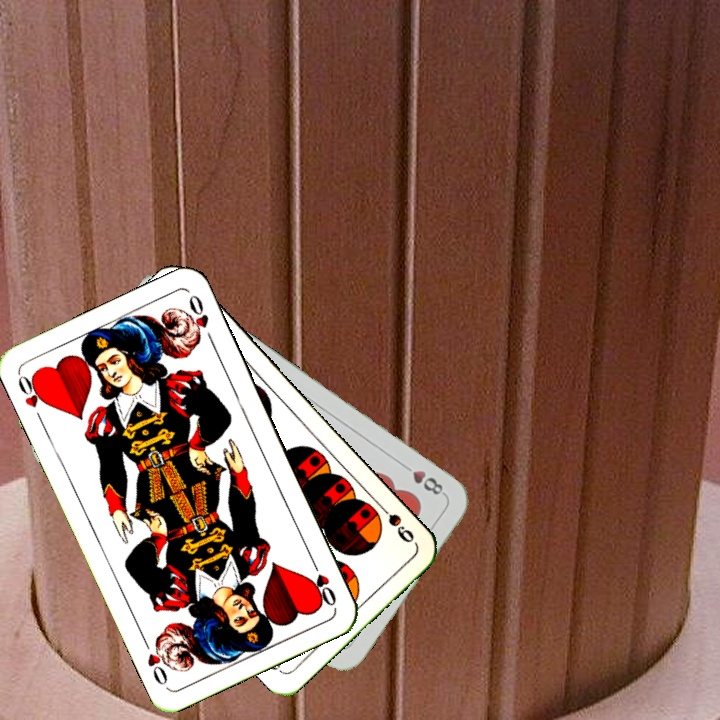H8: (397, 459, 448, 499)
HO: (13, 370, 51, 426), (306, 554, 339, 609)
S9: (372, 498, 417, 546)
